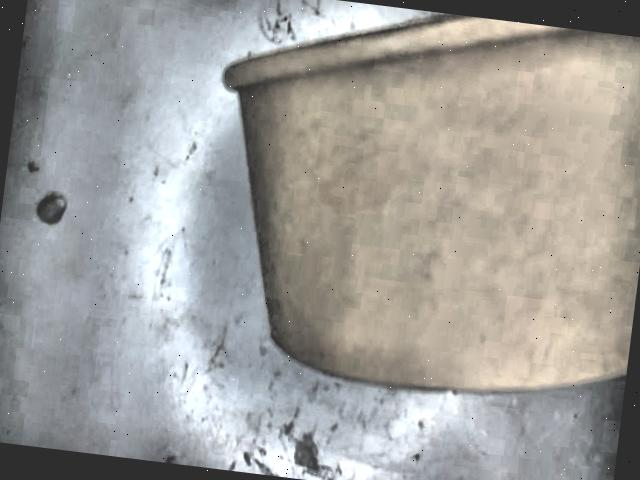Paper: (223, 15, 640, 392)
